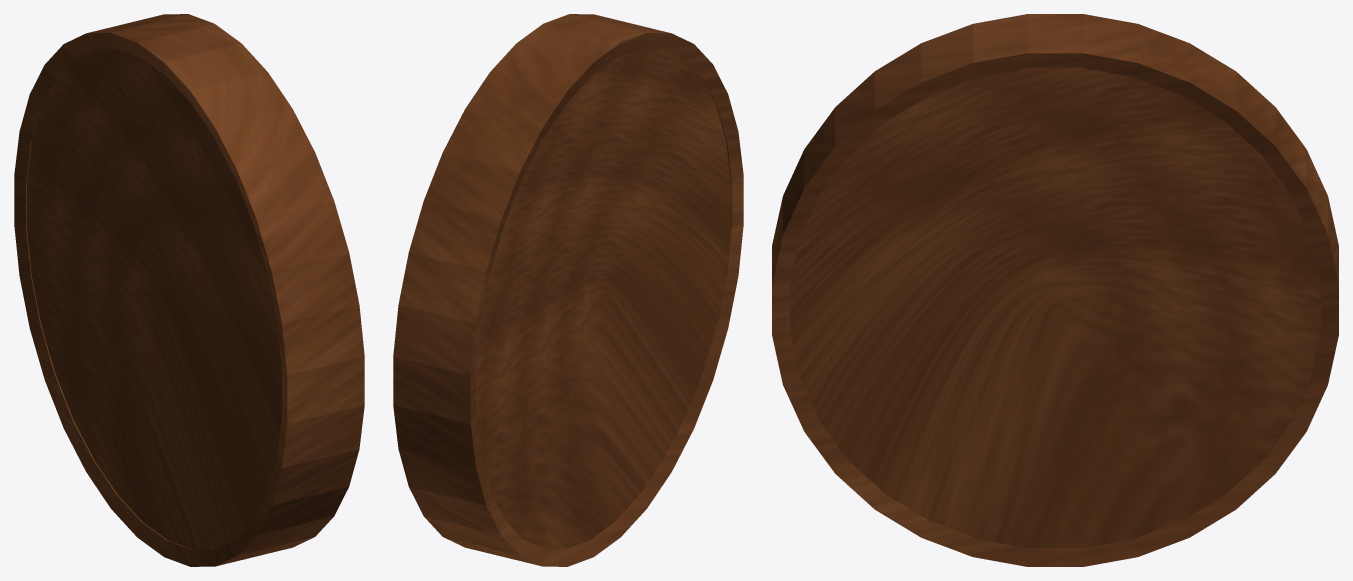
The model's file is Window03O_light.fbx.
3 views of the same model, side by side, from view 1: azimuth 30°, elevation 25°; view 2: azimuth 150°, elevation 25°; view 3: azimuth 270°, elevation 25° (orthographic). The views are drawn at different scales.
Parts seen in each view (by area): view 1: Circle#2, glass.012#2; view 2: Circle#2, glass.012#2; view 3: Circle#2, glass.012#2.
Boxes of the visible parts, x1,y1,x2,y2 form: Circle#2: (27,49,281,549); glass.012#2: (14,14,364,566); Circle#2: (476,49,730,549); glass.012#2: (393,14,743,566); Circle#2: (790,67,1320,548); glass.012#2: (772,14,1338,566).
Size of the model in its own units: 0.3283 by 2 by 2.
Materials: 2 (2 with a texture image).
